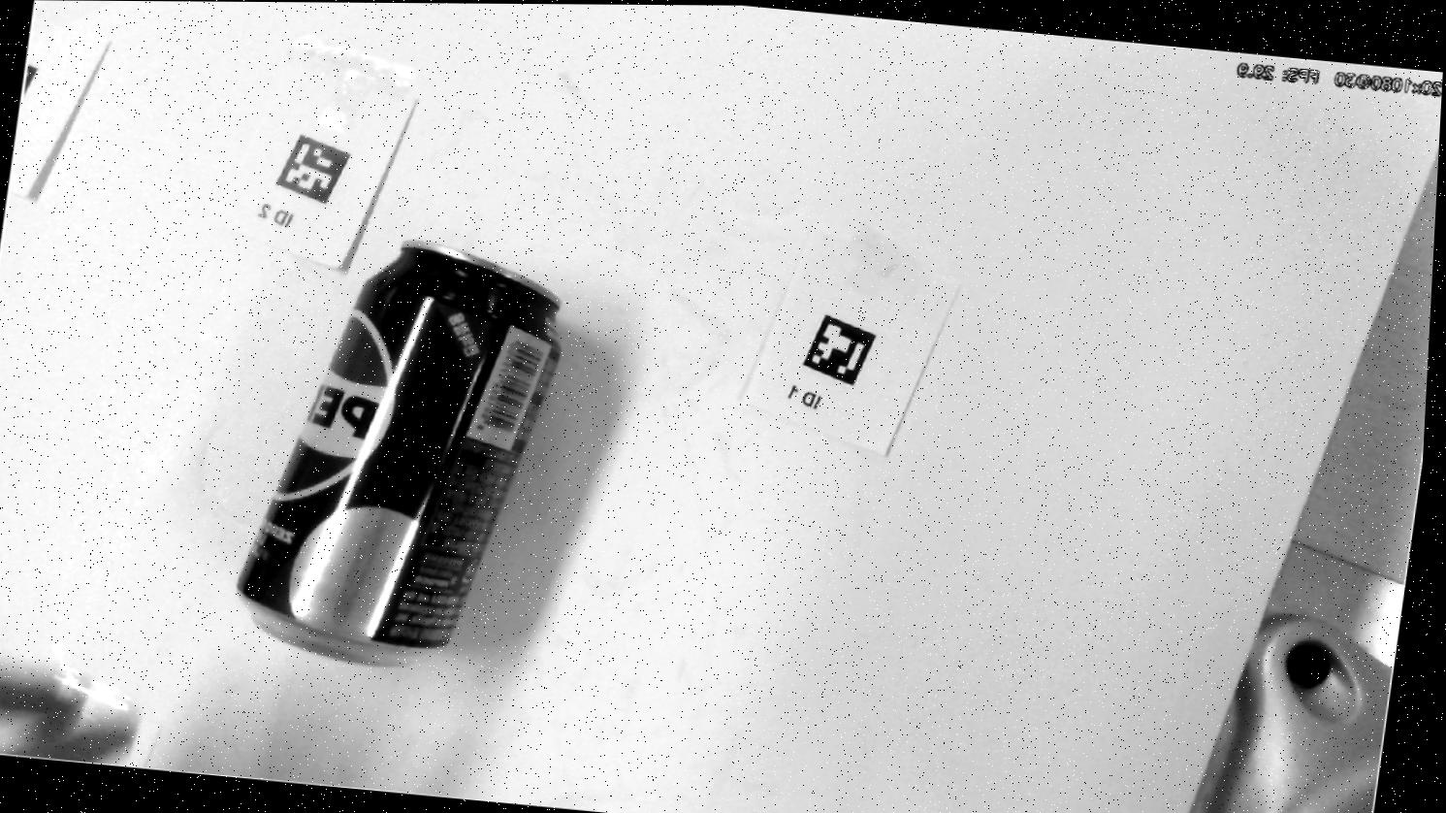can_pepsi_zero: (237, 242, 560, 661)
